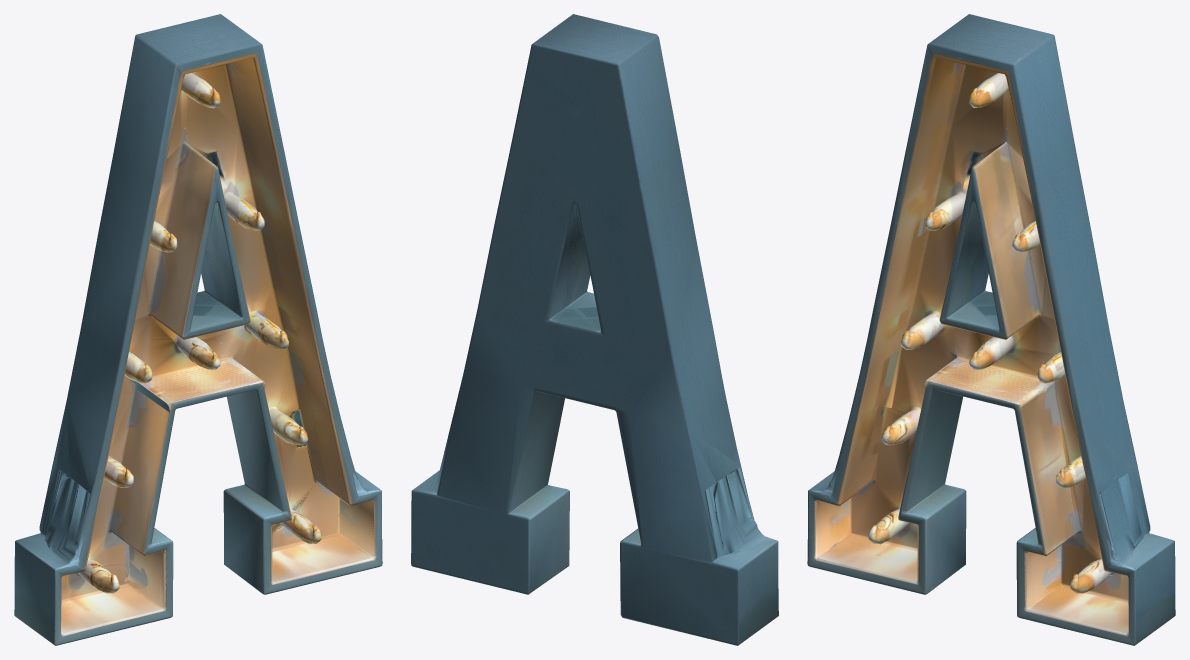
File: Letter_A_0603000331_texture.glb
The picture shows the model from 3 angles, left to right: view 1: azimuth 30°, elevation 25°; view 2: azimuth 150°, elevation 25°; view 3: azimuth 330°, elevation 25°; orthographic projection.
Parts seen in each view (by area): view 1: Mesh_0; view 2: Mesh_0; view 3: Mesh_0.
Boxes of the visible parts, left/top/right/bottom form: Mesh_0: left=14, top=14, right=382, bottom=645; Mesh_0: left=411, top=14, right=778, bottom=645; Mesh_0: left=807, top=14, right=1175, bottom=645.
Size of the model in its own units: 0.5689 by 0.9144 by 0.122.
Materials: 1 (1 with a texture image).
